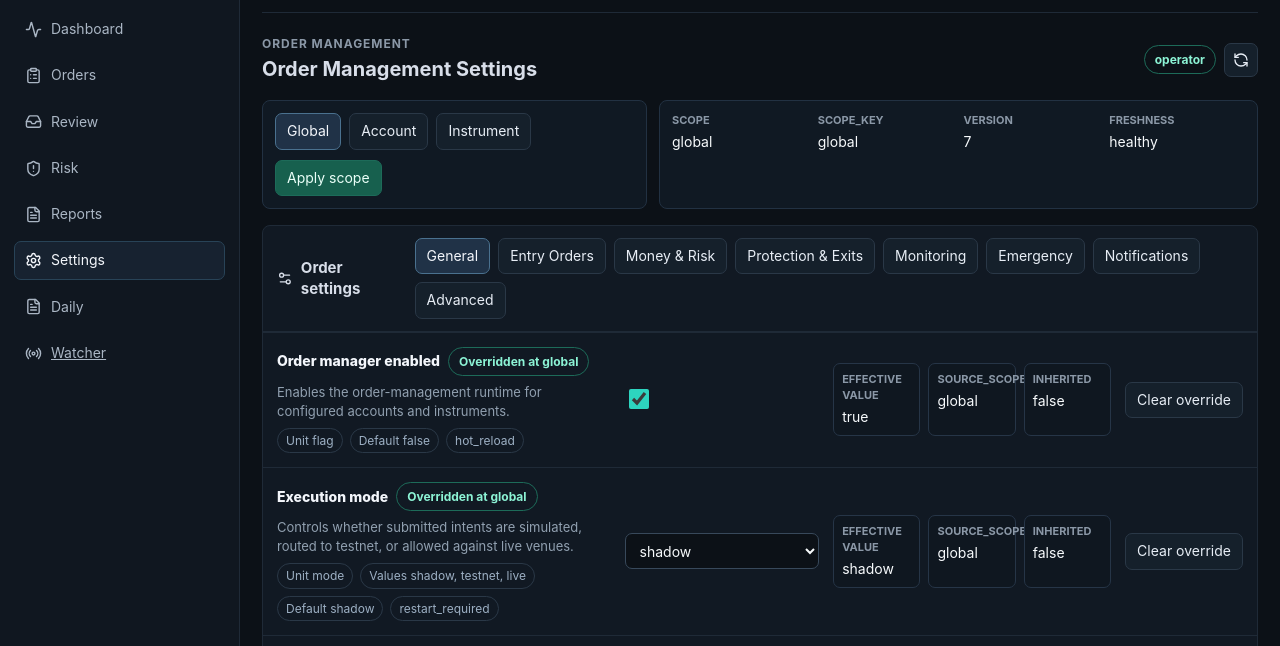
Test: order management settings › renders Money & Risk fields from metadata with usage and post-change estimates
This screenshot has width=1280, height=646.
Click the tab "Money & Risk" at (670, 256), box [614, 238, 727, 274]
(page scrolled)
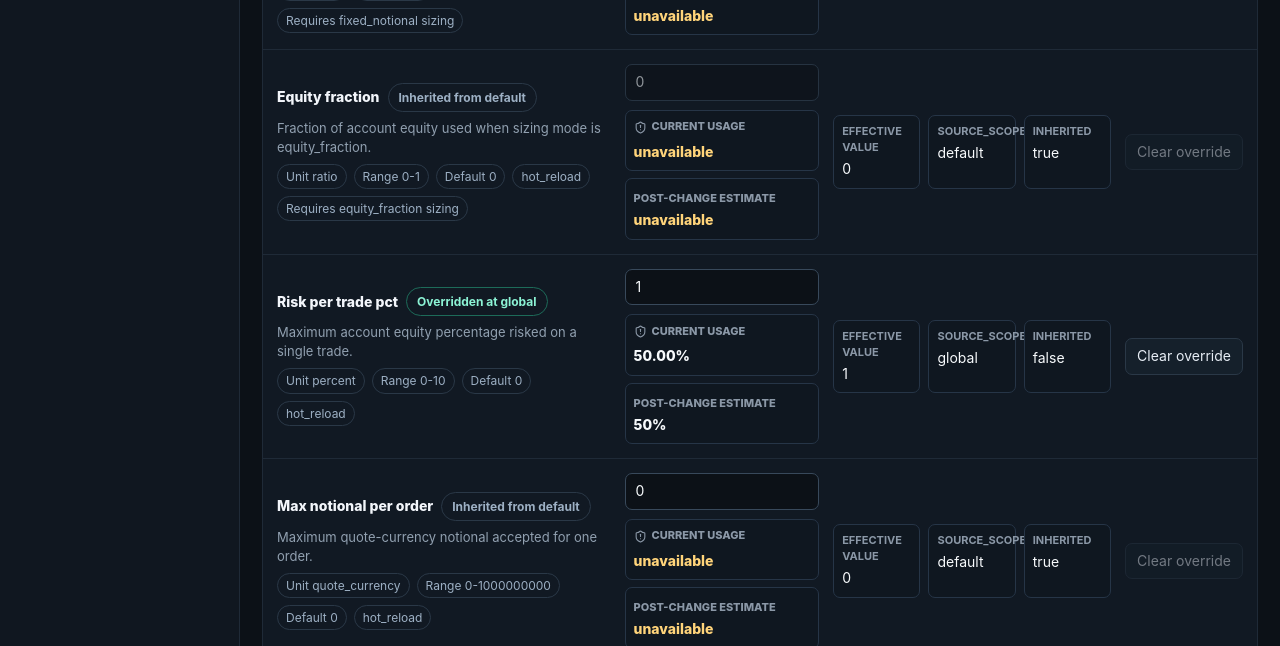
Now the text "Range 0-10" is shown, box [372, 368, 455, 394]
Now the text "Current usage" below "Risk per trade pct" is shown, box [652, 324, 745, 338]
Now the text "50%" is shown, box [634, 416, 667, 433]
Replace the text in the number field labelled "Risk per trade pct" with "2" at (722, 287), box [625, 269, 819, 305]
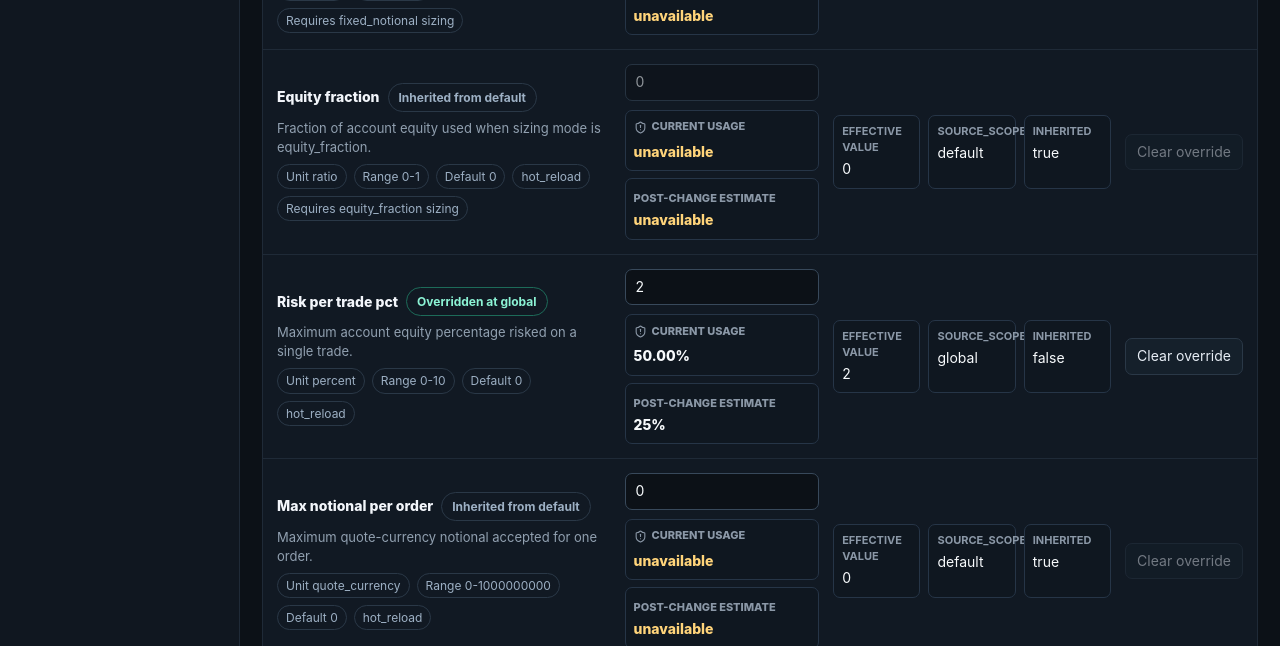
Now the text "25%" is shown, box [634, 416, 666, 433]
